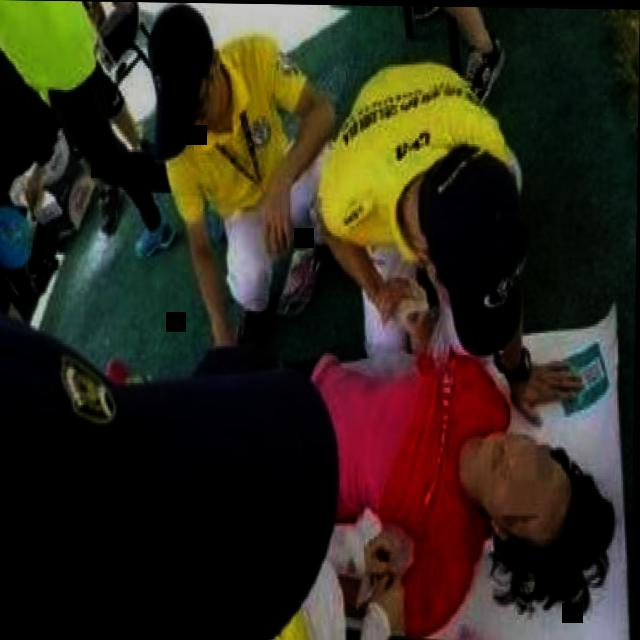Fall-Detected: (214, 308, 624, 634)
